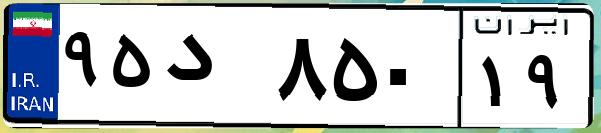0: (385, 28, 445, 110)
1: (475, 38, 525, 113)
5: (330, 28, 385, 110), (110, 28, 158, 98)
8: (270, 28, 330, 110)
9: (57, 26, 110, 100), (525, 38, 570, 115)
د: (158, 20, 270, 120)
